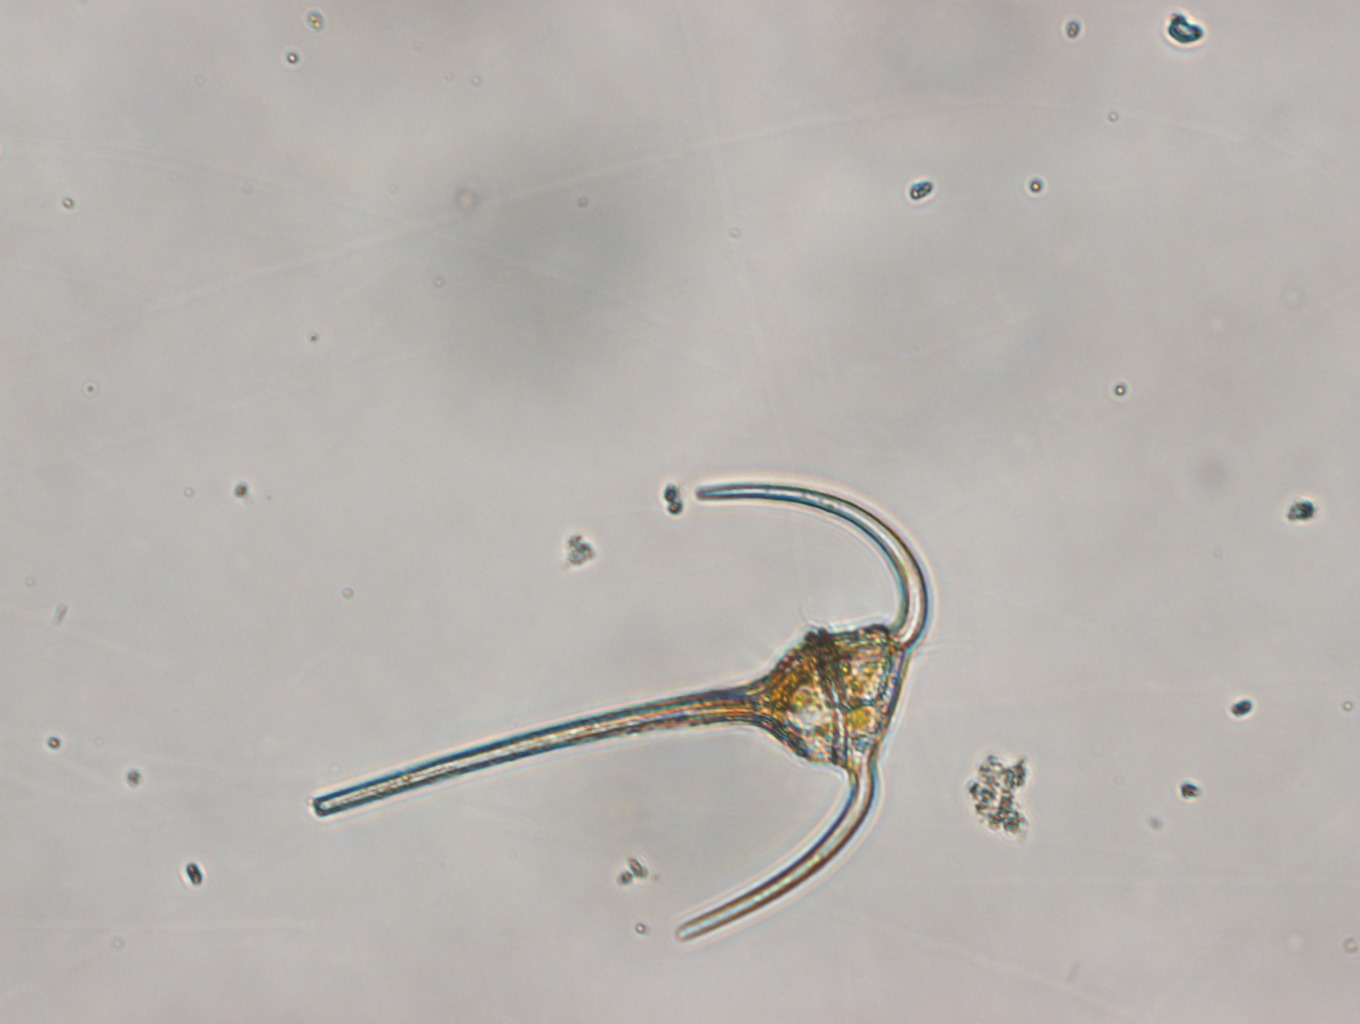ceratium trichoceros: (309, 481, 929, 941)
